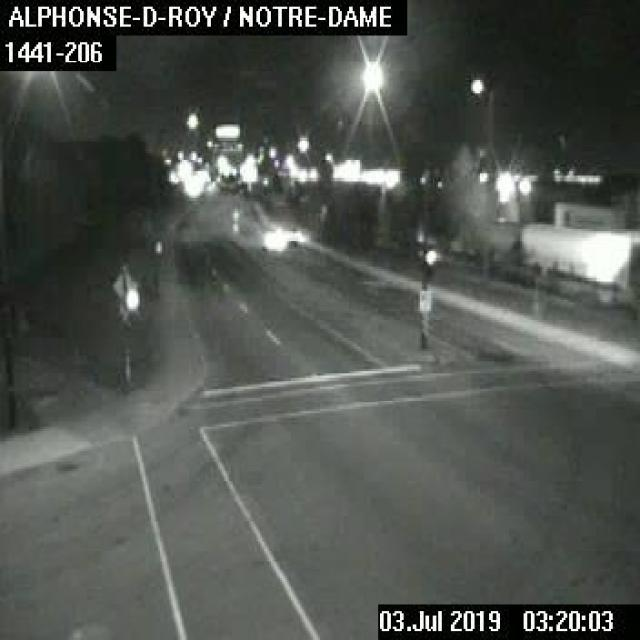vehicle: (260, 227, 304, 253)
